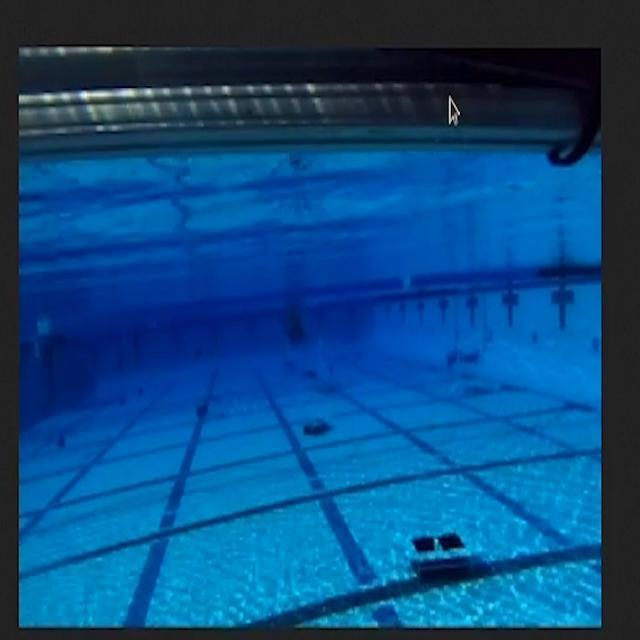Bin: (384, 496, 493, 596)
